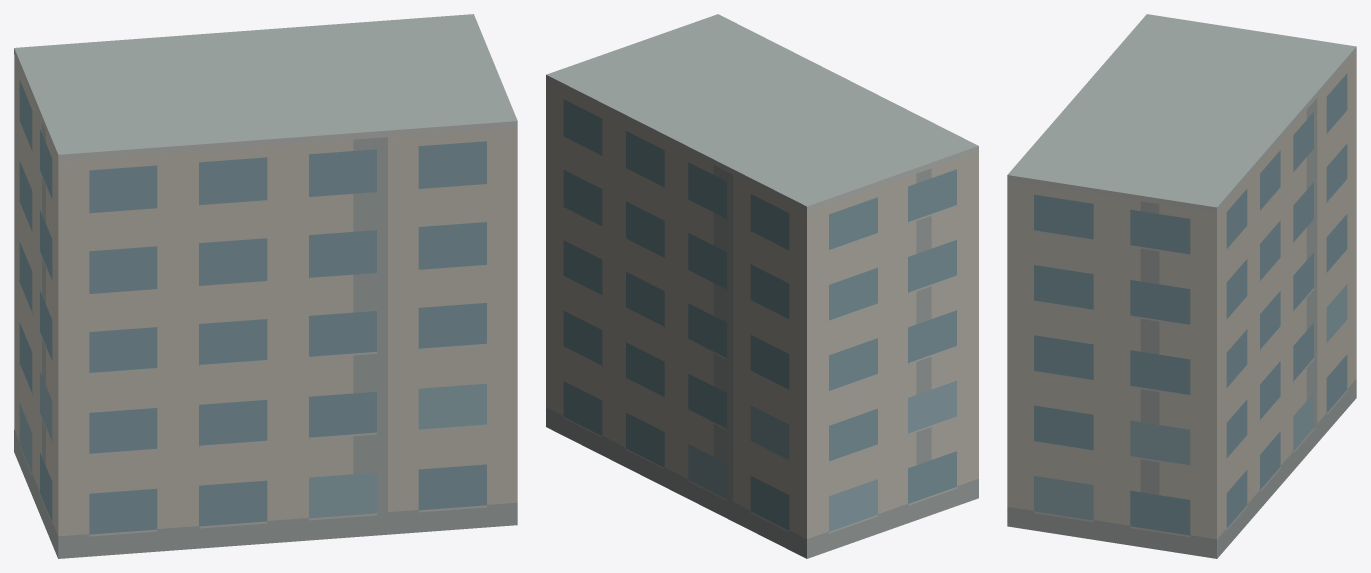
The model's file is residential-a3c1a774-863b-4437-a546-847452acc788.glb.
3 views of the same model, side by side, from view 1: azimuth 30°, elevation 25°; view 2: azimuth 150°, elevation 25°; view 3: azimuth 270°, elevation 25° (orthographic). The views are drawn at different scales.
Parts seen in each view (by area): view 1: residential-a3c1a774-863b-4437-a546-847452acc788.tmp; view 2: residential-a3c1a774-863b-4437-a546-847452acc788.tmp; view 3: residential-a3c1a774-863b-4437-a546-847452acc788.tmp.
Boxes of the visible parts, x1,y1,x2,y2 form: residential-a3c1a774-863b-4437-a546-847452acc788.tmp: (14, 14, 517, 558); residential-a3c1a774-863b-4437-a546-847452acc788.tmp: (546, 14, 978, 558); residential-a3c1a774-863b-4437-a546-847452acc788.tmp: (1007, 14, 1356, 558).
Bounding box in the file's own units: 18.02 × 15.25 × 13.75.
